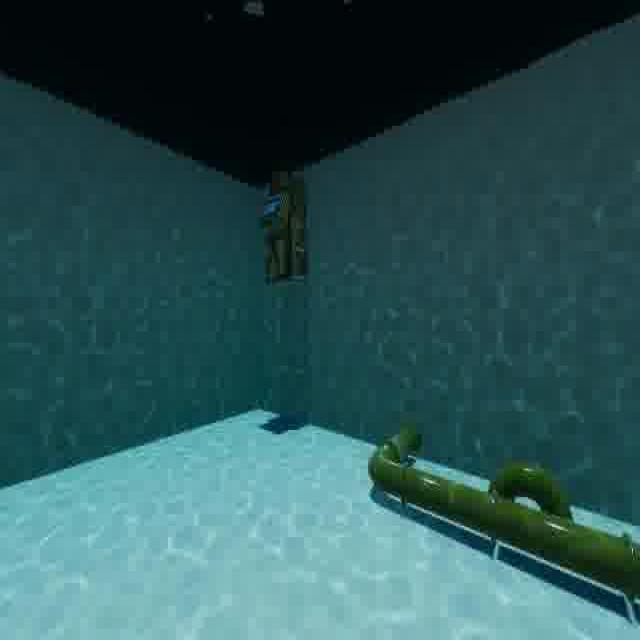Control Panel: (253, 159, 312, 289)
Pipe: (366, 399, 640, 600)
